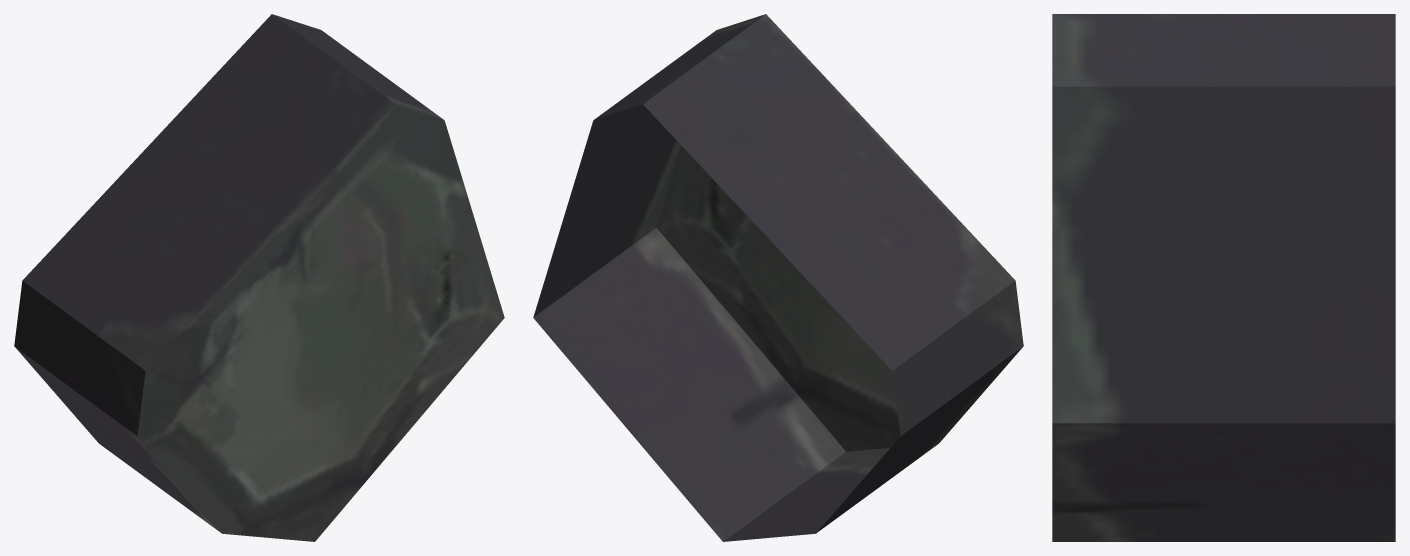
Rendered from yw_shanlin_doorstones_21.FBX.
3 views of the same model, side by side, from view 1: azimuth 30°, elevation 25°; view 2: azimuth 150°, elevation 25°; view 3: azimuth 270°, elevation 25° (orthographic). The views are drawn at different scales.
Parts seen in each view (by area): view 1: yw_shanlin_doorstones_21; view 2: yw_shanlin_doorstones_21; view 3: yw_shanlin_doorstones_21.
Boxes of the visible parts, x1,y1,x2,y2 form: yw_shanlin_doorstones_21: (14,14,504,541); yw_shanlin_doorstones_21: (533,14,1023,541); yw_shanlin_doorstones_21: (1052,14,1395,541).
Bounding box in the file's own units: 36.77 × 40.01 × 21.38.
